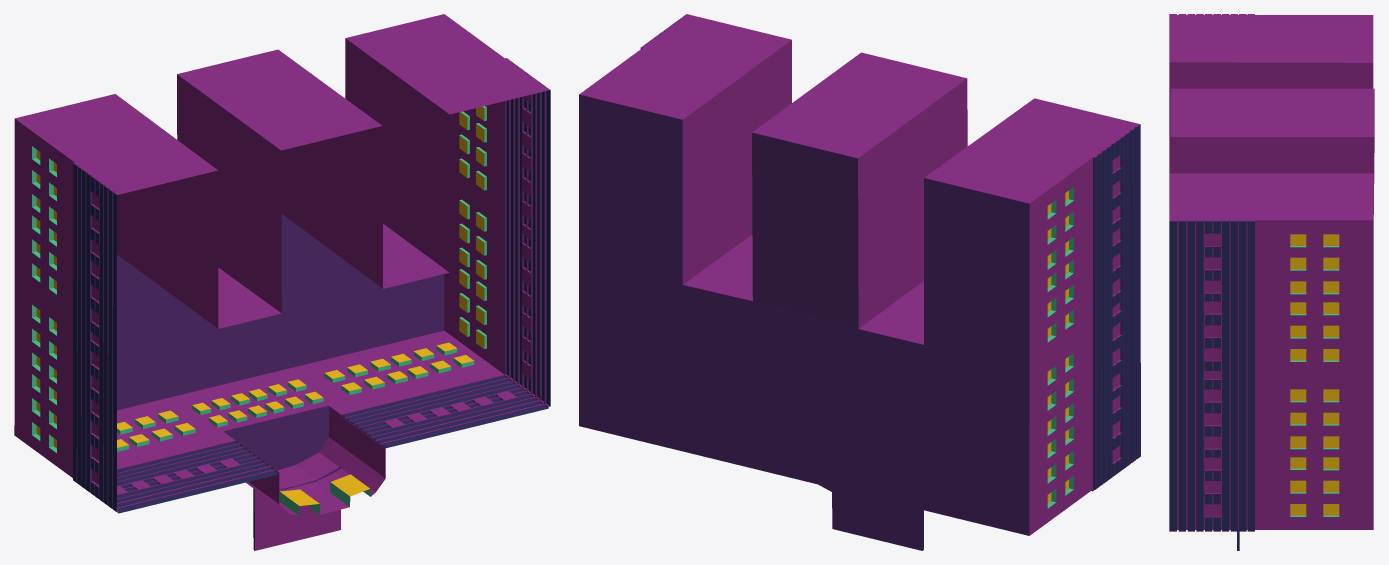
The model's file is Urząd Miejski Kilinskiego Tier 3.fbx.
3 views of the same model, side by side, from view 1: azimuth 30°, elevation 25°; view 2: azimuth 150°, elevation 25°; view 3: azimuth 270°, elevation 25° (orthographic). The views are drawn at different scales.
Parts seen in each view (by area): view 1: Urzad_miejski_kilinskiego; view 2: Urzad_miejski_kilinskiego; view 3: Urzad_miejski_kilinskiego.
Part boxes in pixels (left/top/right/bottom): Urzad_miejski_kilinskiego: left=14, top=14, right=550, bottom=550; Urzad_miejski_kilinskiego: left=579, top=14, right=1140, bottom=550; Urzad_miejski_kilinskiego: left=1169, top=14, right=1374, bottom=550.
Size of the model in its own units: 3.68 by 3.46 by 1.54.
